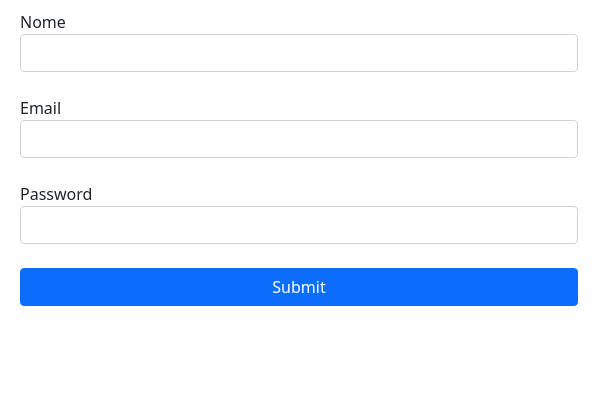
Test: App: Signup Form › Should show error message when fields is empty
The image size is (599, 395).
Click the button "Submit": (299, 287) [20,268,578,306]
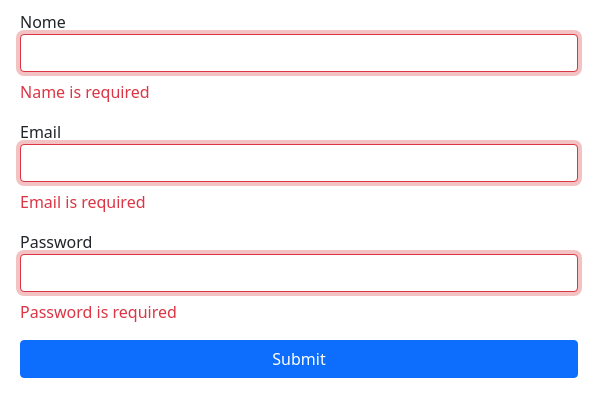
Expected: the text "Name is required" is shown, [20,81,150,103]
Expected: the text "Email is required" is shown, [20,191,146,213]
Expected: the text "Password is required" is shown, [20,301,177,323]
